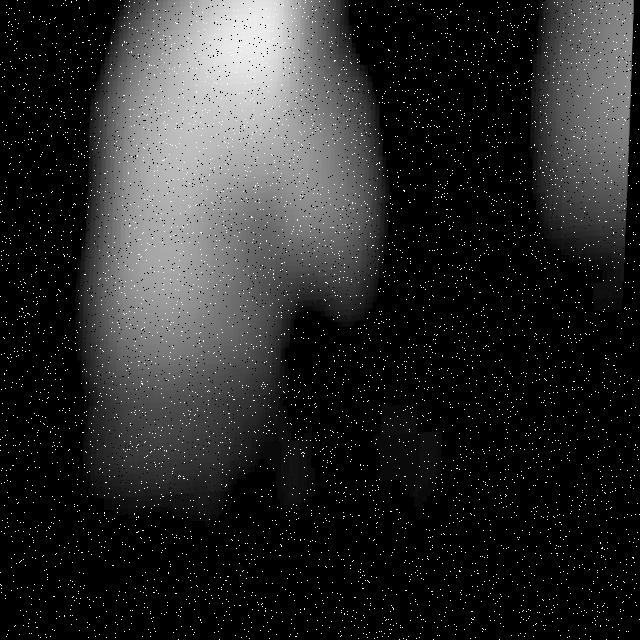person: (88, 1, 384, 484), (520, 1, 640, 251)
